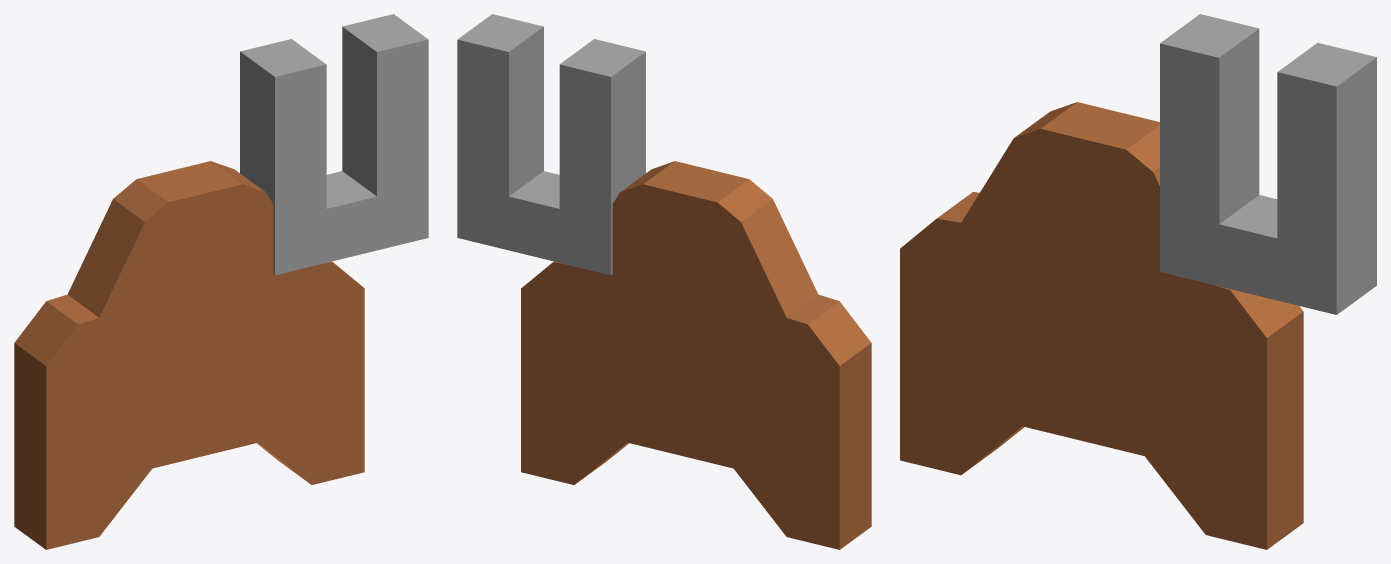
Rendered from gongji.fbx.
3 views of the same model, side by side, from view 1: azimuth 30°, elevation 25°; view 2: azimuth 150°, elevation 25°; view 3: azimuth 330°, elevation 25° (orthographic). The views are drawn at different scales.
Parts seen in each view (by area): view 1: GONGJI:pCube1, pasted__pCube1, pCube1; view 2: GONGJI:pCube1, pasted__pCube1, pCube1; view 3: GONGJI:pCube1, pasted__pCube1, pCube1.
Part boxes in pixels (bbox=[...]): GONGJI:pCube1: bbox=[14, 161, 364, 549]; pasted__pCube1: bbox=[326, 14, 428, 256]; pCube1: bbox=[240, 39, 351, 275]; GONGJI:pCube1: bbox=[521, 161, 871, 549]; pasted__pCube1: bbox=[457, 14, 559, 256]; pCube1: bbox=[533, 39, 645, 275]; GONGJI:pCube1: bbox=[900, 102, 1303, 549]; pasted__pCube1: bbox=[1247, 42, 1376, 314]; pCube1: bbox=[1160, 14, 1277, 293].
Size of the model in its own units: 57.51 by 60.42 by 9.13.
